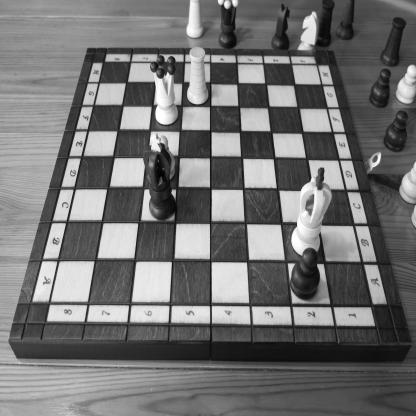black-bishop: (336, 0, 355, 41)
black-king: (142, 131, 176, 220)
black-pawn: (289, 247, 320, 300), (383, 109, 409, 153), (368, 68, 392, 109)
black-queen: (218, 0, 238, 49), (272, 2, 290, 50)
black-rook: (380, 16, 407, 67), (315, 0, 335, 48)
white-king: (291, 166, 332, 257)
white-knight: (297, 11, 319, 51)
white-pawn: (157, 134, 176, 180), (395, 64, 415, 106), (398, 161, 416, 206)
white-queen: (149, 54, 179, 126)
white-rook: (186, 46, 209, 106), (186, 0, 205, 39)
